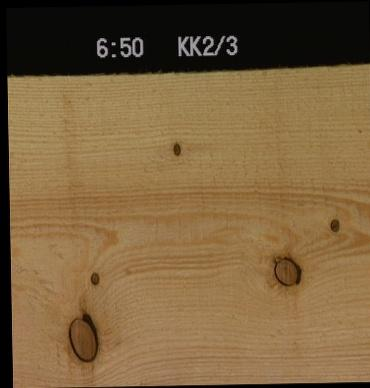dry_knot: (87, 269, 99, 286), (327, 216, 338, 232), (170, 141, 180, 156)
